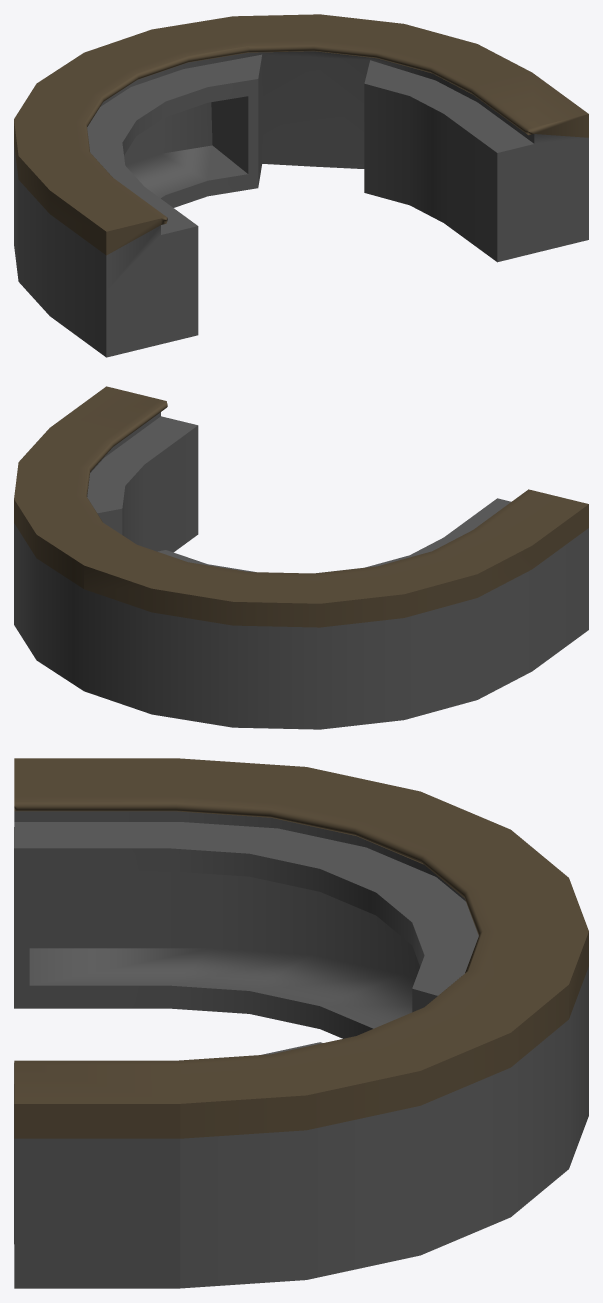
The model's file is Barra.fbx.
The picture shows the model from 3 angles, top to bottom: view 1: azimuth 30°, elevation 25°; view 2: azimuth 150°, elevation 25°; view 3: azimuth 270°, elevation 25°; orthographic projection. The views are drawn at different scales.
Visible parts, largest first — view 1: Barra; view 2: Barra; view 3: Barra.
Boxes of the visible parts, <box> form: Barra: <box>14,14,588,357</box>; Barra: <box>14,386,588,729</box>; Barra: <box>14,758,588,1288</box>.
Size of the model in its own units: 14.36 by 3.58 by 10.11.
